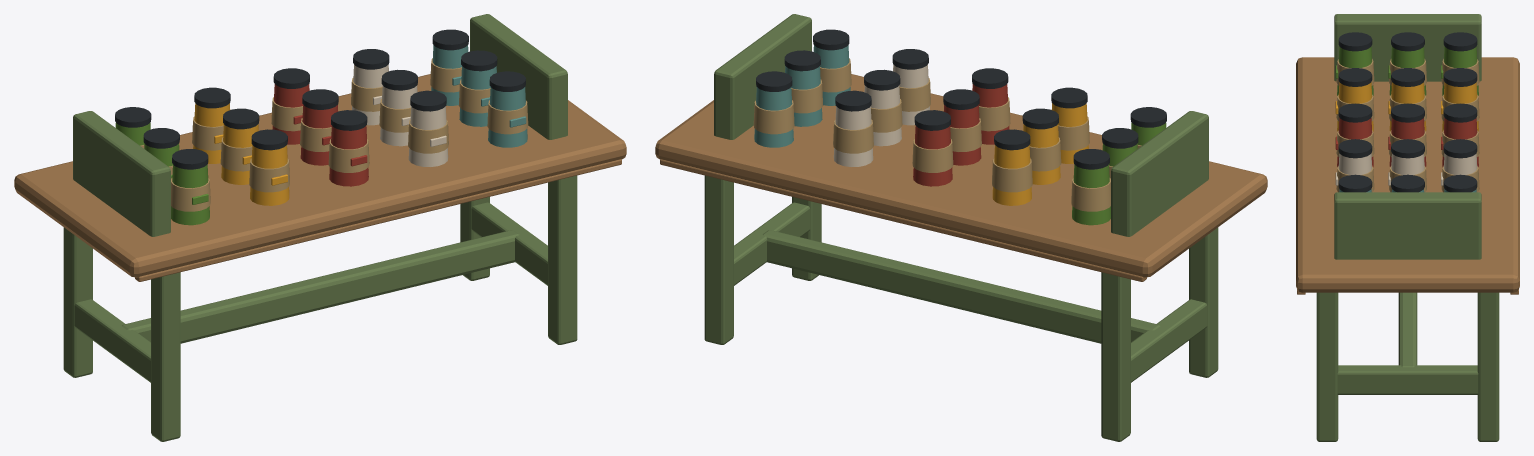
File: rivora_pantry.glb
3 renders of one model, left to right at view 1: azimuth 30°, elevation 25°; view 2: azimuth 150°, elevation 25°; view 3: azimuth 270°, elevation 25°, orthographic. The views are drawn at different scales.
Visible parts, largest first — view 1: rivora_pantry; view 2: rivora_pantry; view 3: rivora_pantry.
Boxes of the visible parts, x1,y1,x2,y2 form: rivora_pantry: (14, 14, 626, 441); rivora_pantry: (655, 14, 1267, 441); rivora_pantry: (1296, 14, 1519, 441).
Bounding box in the file's own units: 1.72 × 0.875 × 0.73.
